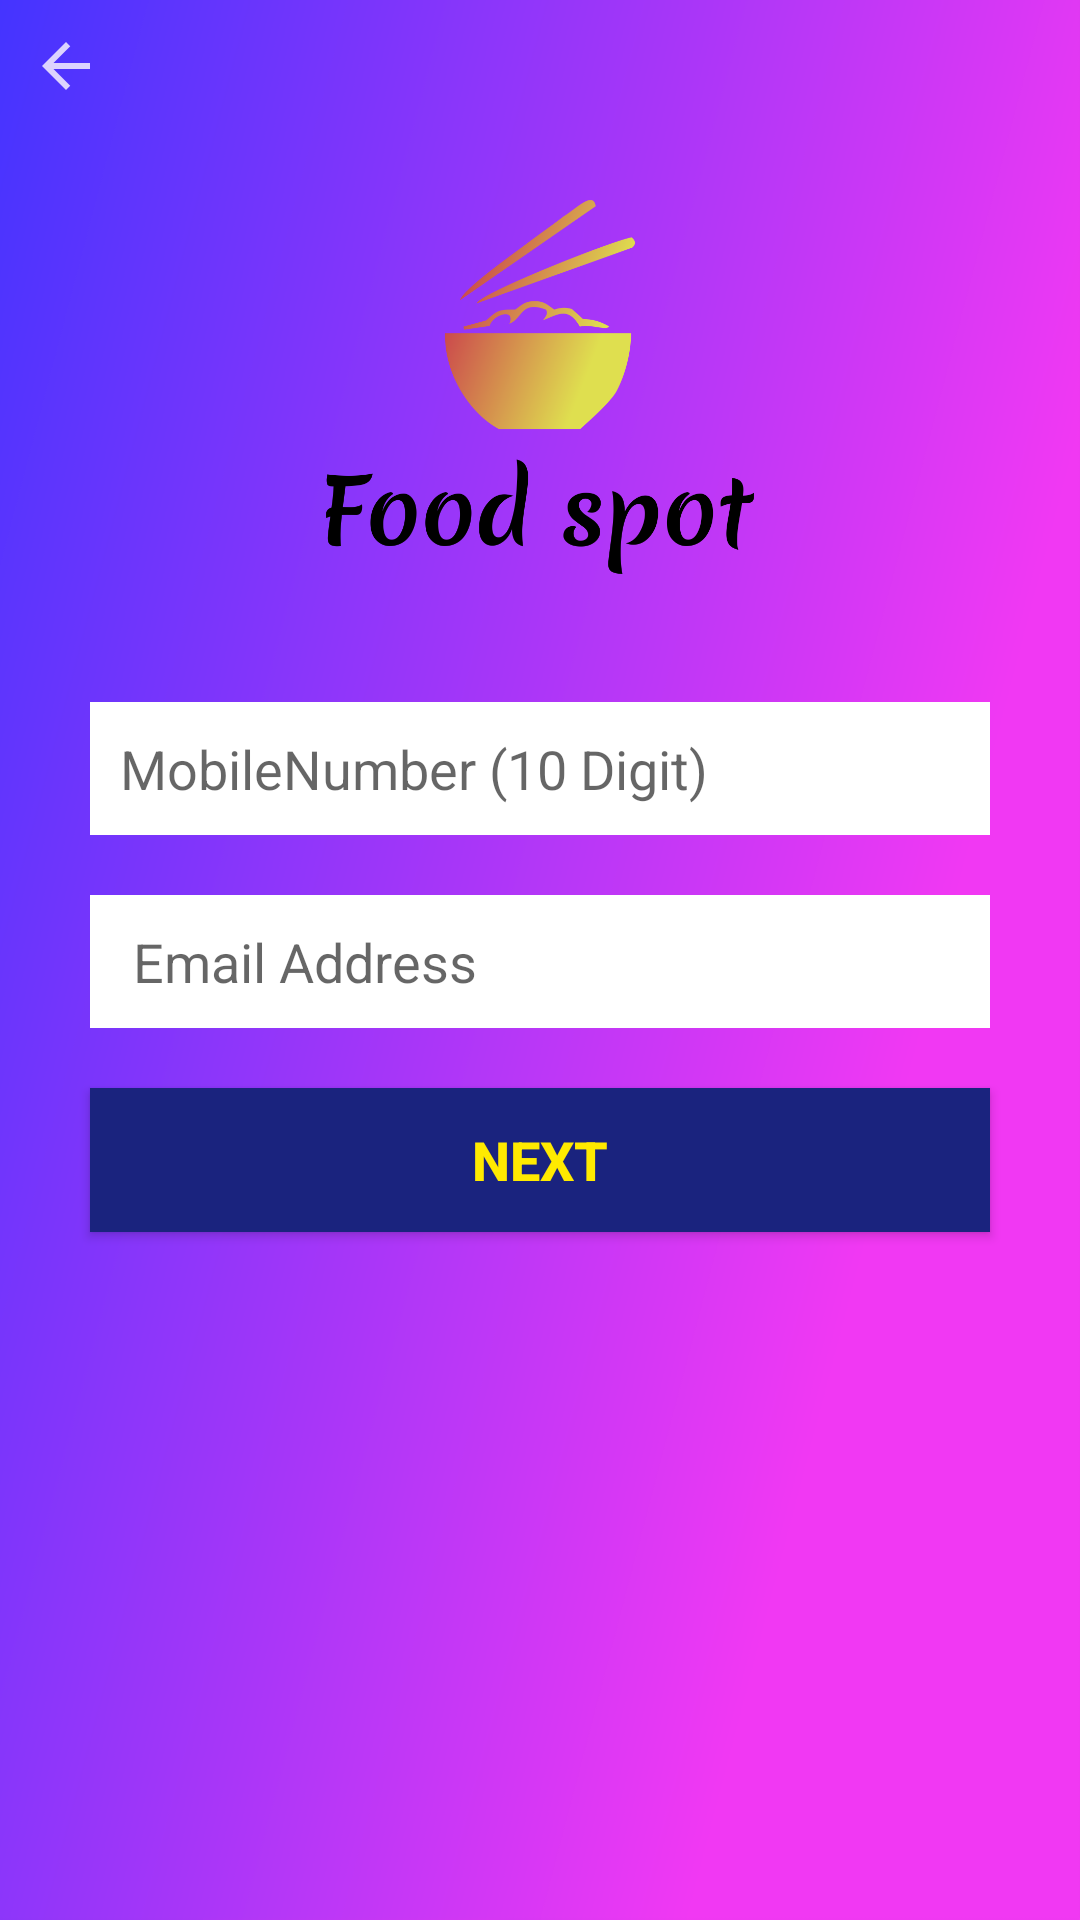

Named icons in this screenshot (1080*1920) and their centers, point (x, y):
back: point (66, 66)
